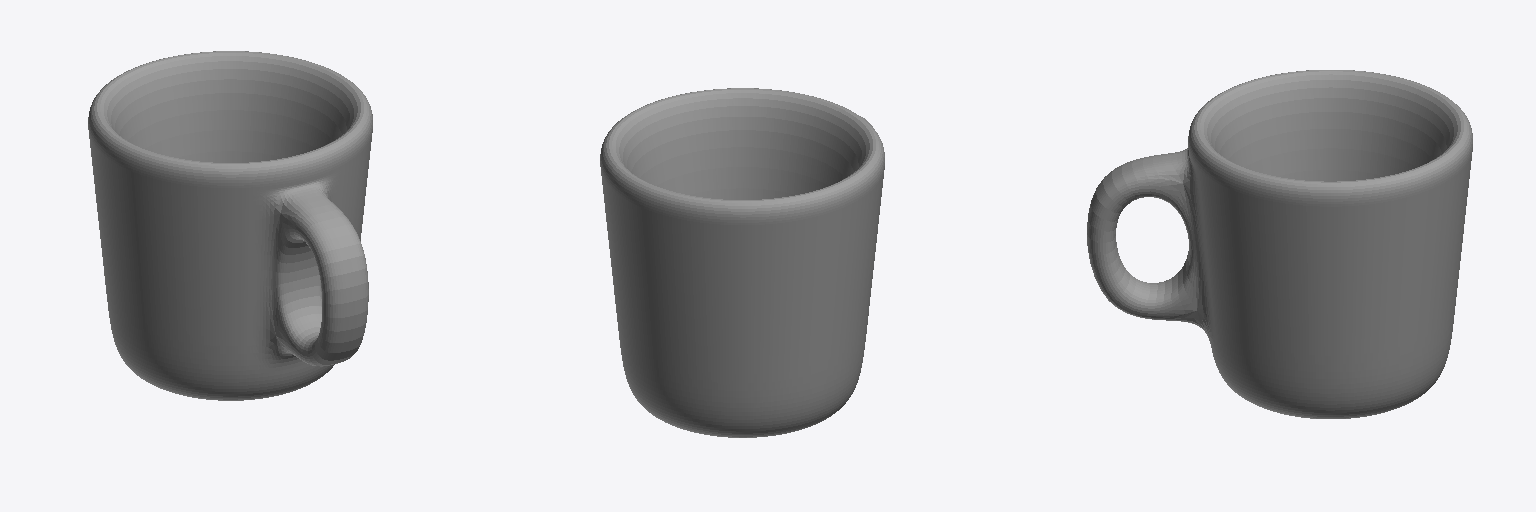
File: cup2.obj
3 renders of one model, left to right at view 1: azimuth 30°, elevation 25°; view 2: azimuth 150°, elevation 25°; view 3: azimuth 270°, elevation 25°, orthographic.
Parts seen in each view (by area): view 1: Circle; view 2: Circle; view 3: Circle.
Boxes of the visible parts, box(x1,y1,x2,y2) form: Circle: box(88, 51, 372, 400); Circle: box(600, 88, 884, 437); Circle: box(1087, 70, 1472, 418).
Size of the model in its own units: 3.33 by 3.34 by 4.51.